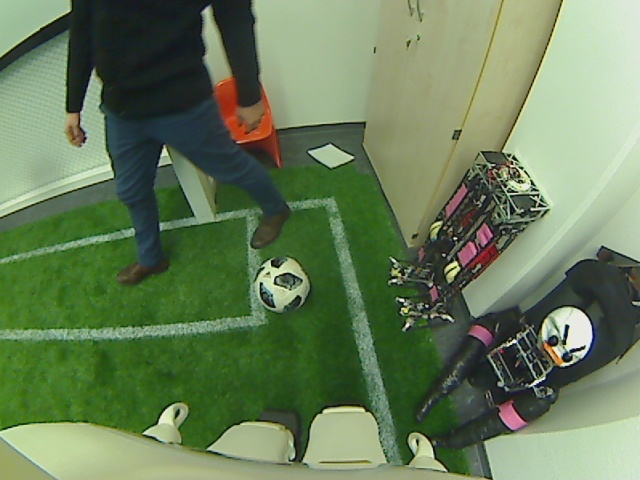ball: (252, 255, 311, 313)
